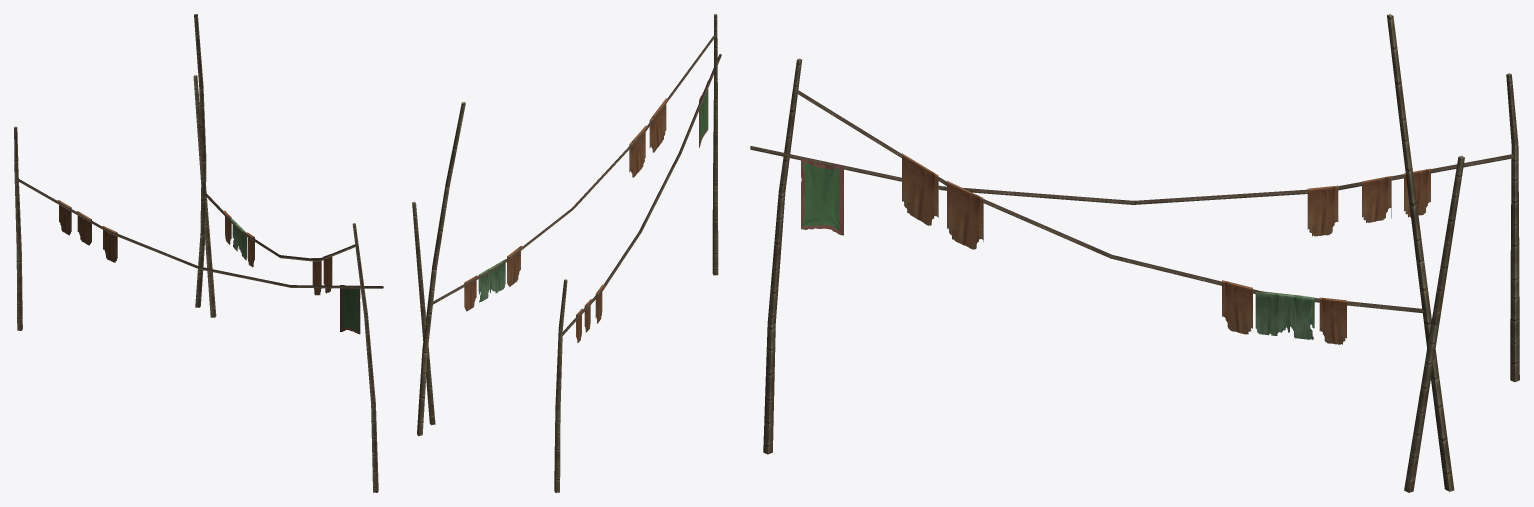
The picture shows the model from 3 angles, left to right: view 1: azimuth 30°, elevation 25°; view 2: azimuth 150°, elevation 25°; view 3: azimuth 270°, elevation 25°; orthographic projection. The views are drawn at different scales.
Parts seen in each view (by area): view 1: Object006; view 2: Object006; view 3: Object006.
Boxes of the visible parts, box(x1,y1,x2,y2) form: Object006: box(14, 14, 383, 492); Object006: box(412, 14, 721, 492); Object006: box(750, 14, 1519, 492).
Size of the model in its own units: 195 by 348 by 527.
1 material, 1 textured.
